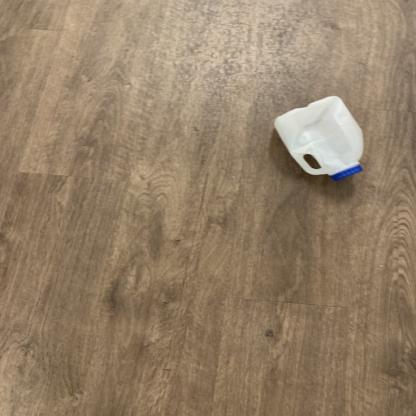trash: (267, 95, 370, 185)
